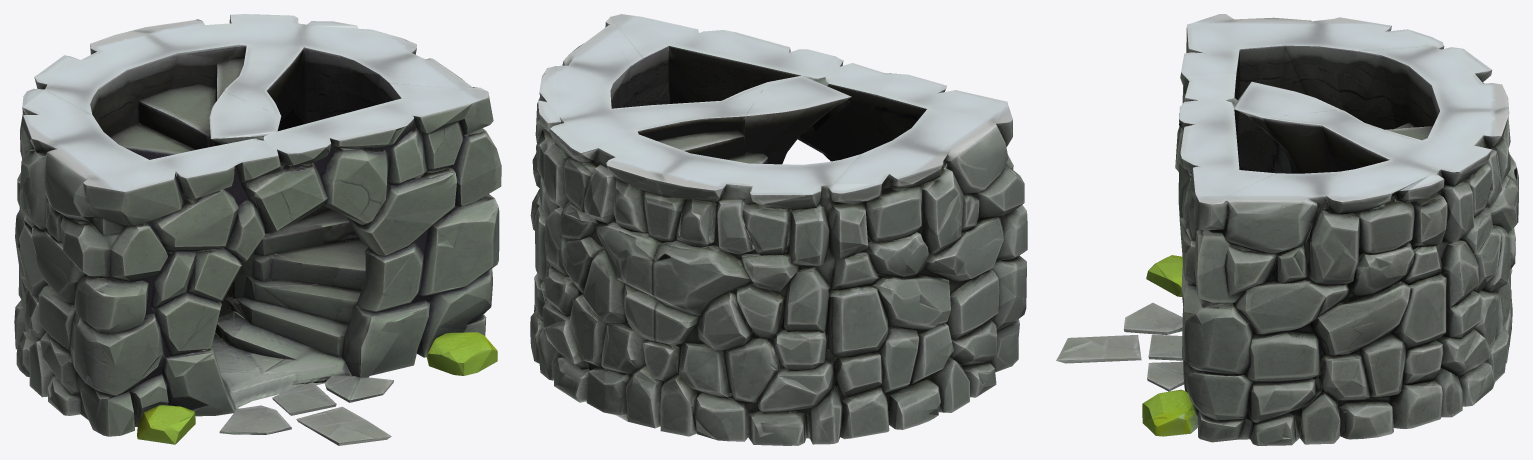
File: prop_stairs.glb
The picture shows the model from 3 angles, left to right: view 1: azimuth 30°, elevation 25°; view 2: azimuth 150°, elevation 25°; view 3: azimuth 270°, elevation 25°; orthographic projection. The views are drawn at different scales.
Bounding box in the file's own units: 1.9 × 1.1 × 1.87.
Materials: 1 (1 with a texture image).
